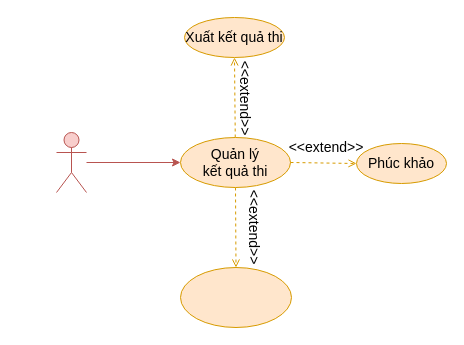
Image size: 464x345. Some labels were removed from this diagram. Each missing label, with the centre of its shape:
Quản trị hệ thống: the point at 71,162
Tìm kiếm & lọc kết quả thi: the point at 236,297
